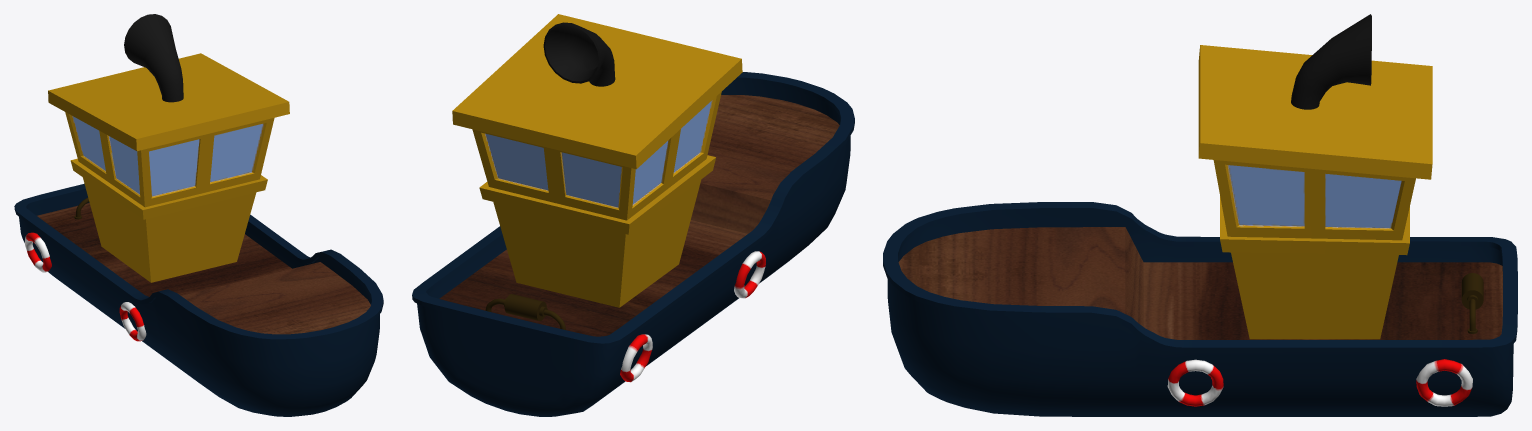
3 views of the same model, side by side, from view 1: azimuth 30°, elevation 25°; view 2: azimuth 150°, elevation 25°; view 3: azimuth 270°, elevation 25° (orthographic). The views are drawn at different scales.
Parts seen in each view (by area): view 1: boat_low; view 2: boat_low; view 3: boat_low.
Part boxes in pixels (x1,y1,x2,y2): boat_low: [14, 14, 383, 416]; boat_low: [412, 14, 854, 416]; boat_low: [883, 14, 1517, 416].
Bounding box in the file's own units: 294 × 459 × 692.
Materials: 1 (1 with a texture image).
